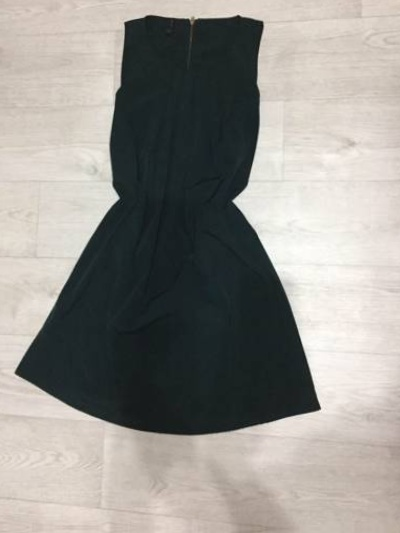Dress: (0, 0, 330, 444)
